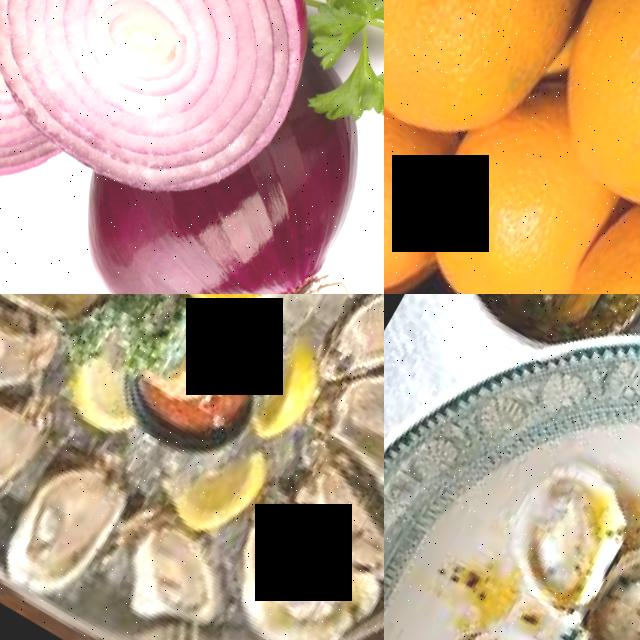onion: (0, 0, 345, 220), (139, 64, 384, 294)
orange: (403, 109, 626, 294), (384, 0, 620, 166), (518, 0, 640, 235), (384, 78, 462, 294)
oysters: (477, 437, 640, 626), (0, 433, 145, 622), (211, 501, 379, 640), (97, 495, 239, 640), (299, 341, 384, 548), (0, 367, 53, 543), (569, 520, 640, 640), (0, 294, 56, 437), (395, 598, 539, 640)
